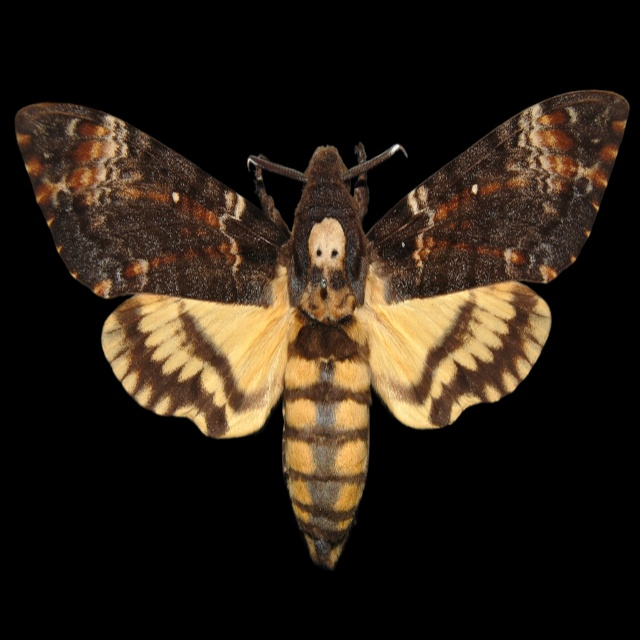Butterfly: (8, 81, 640, 587)
